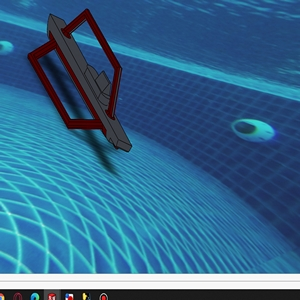submarine: (27, 9, 134, 154)
